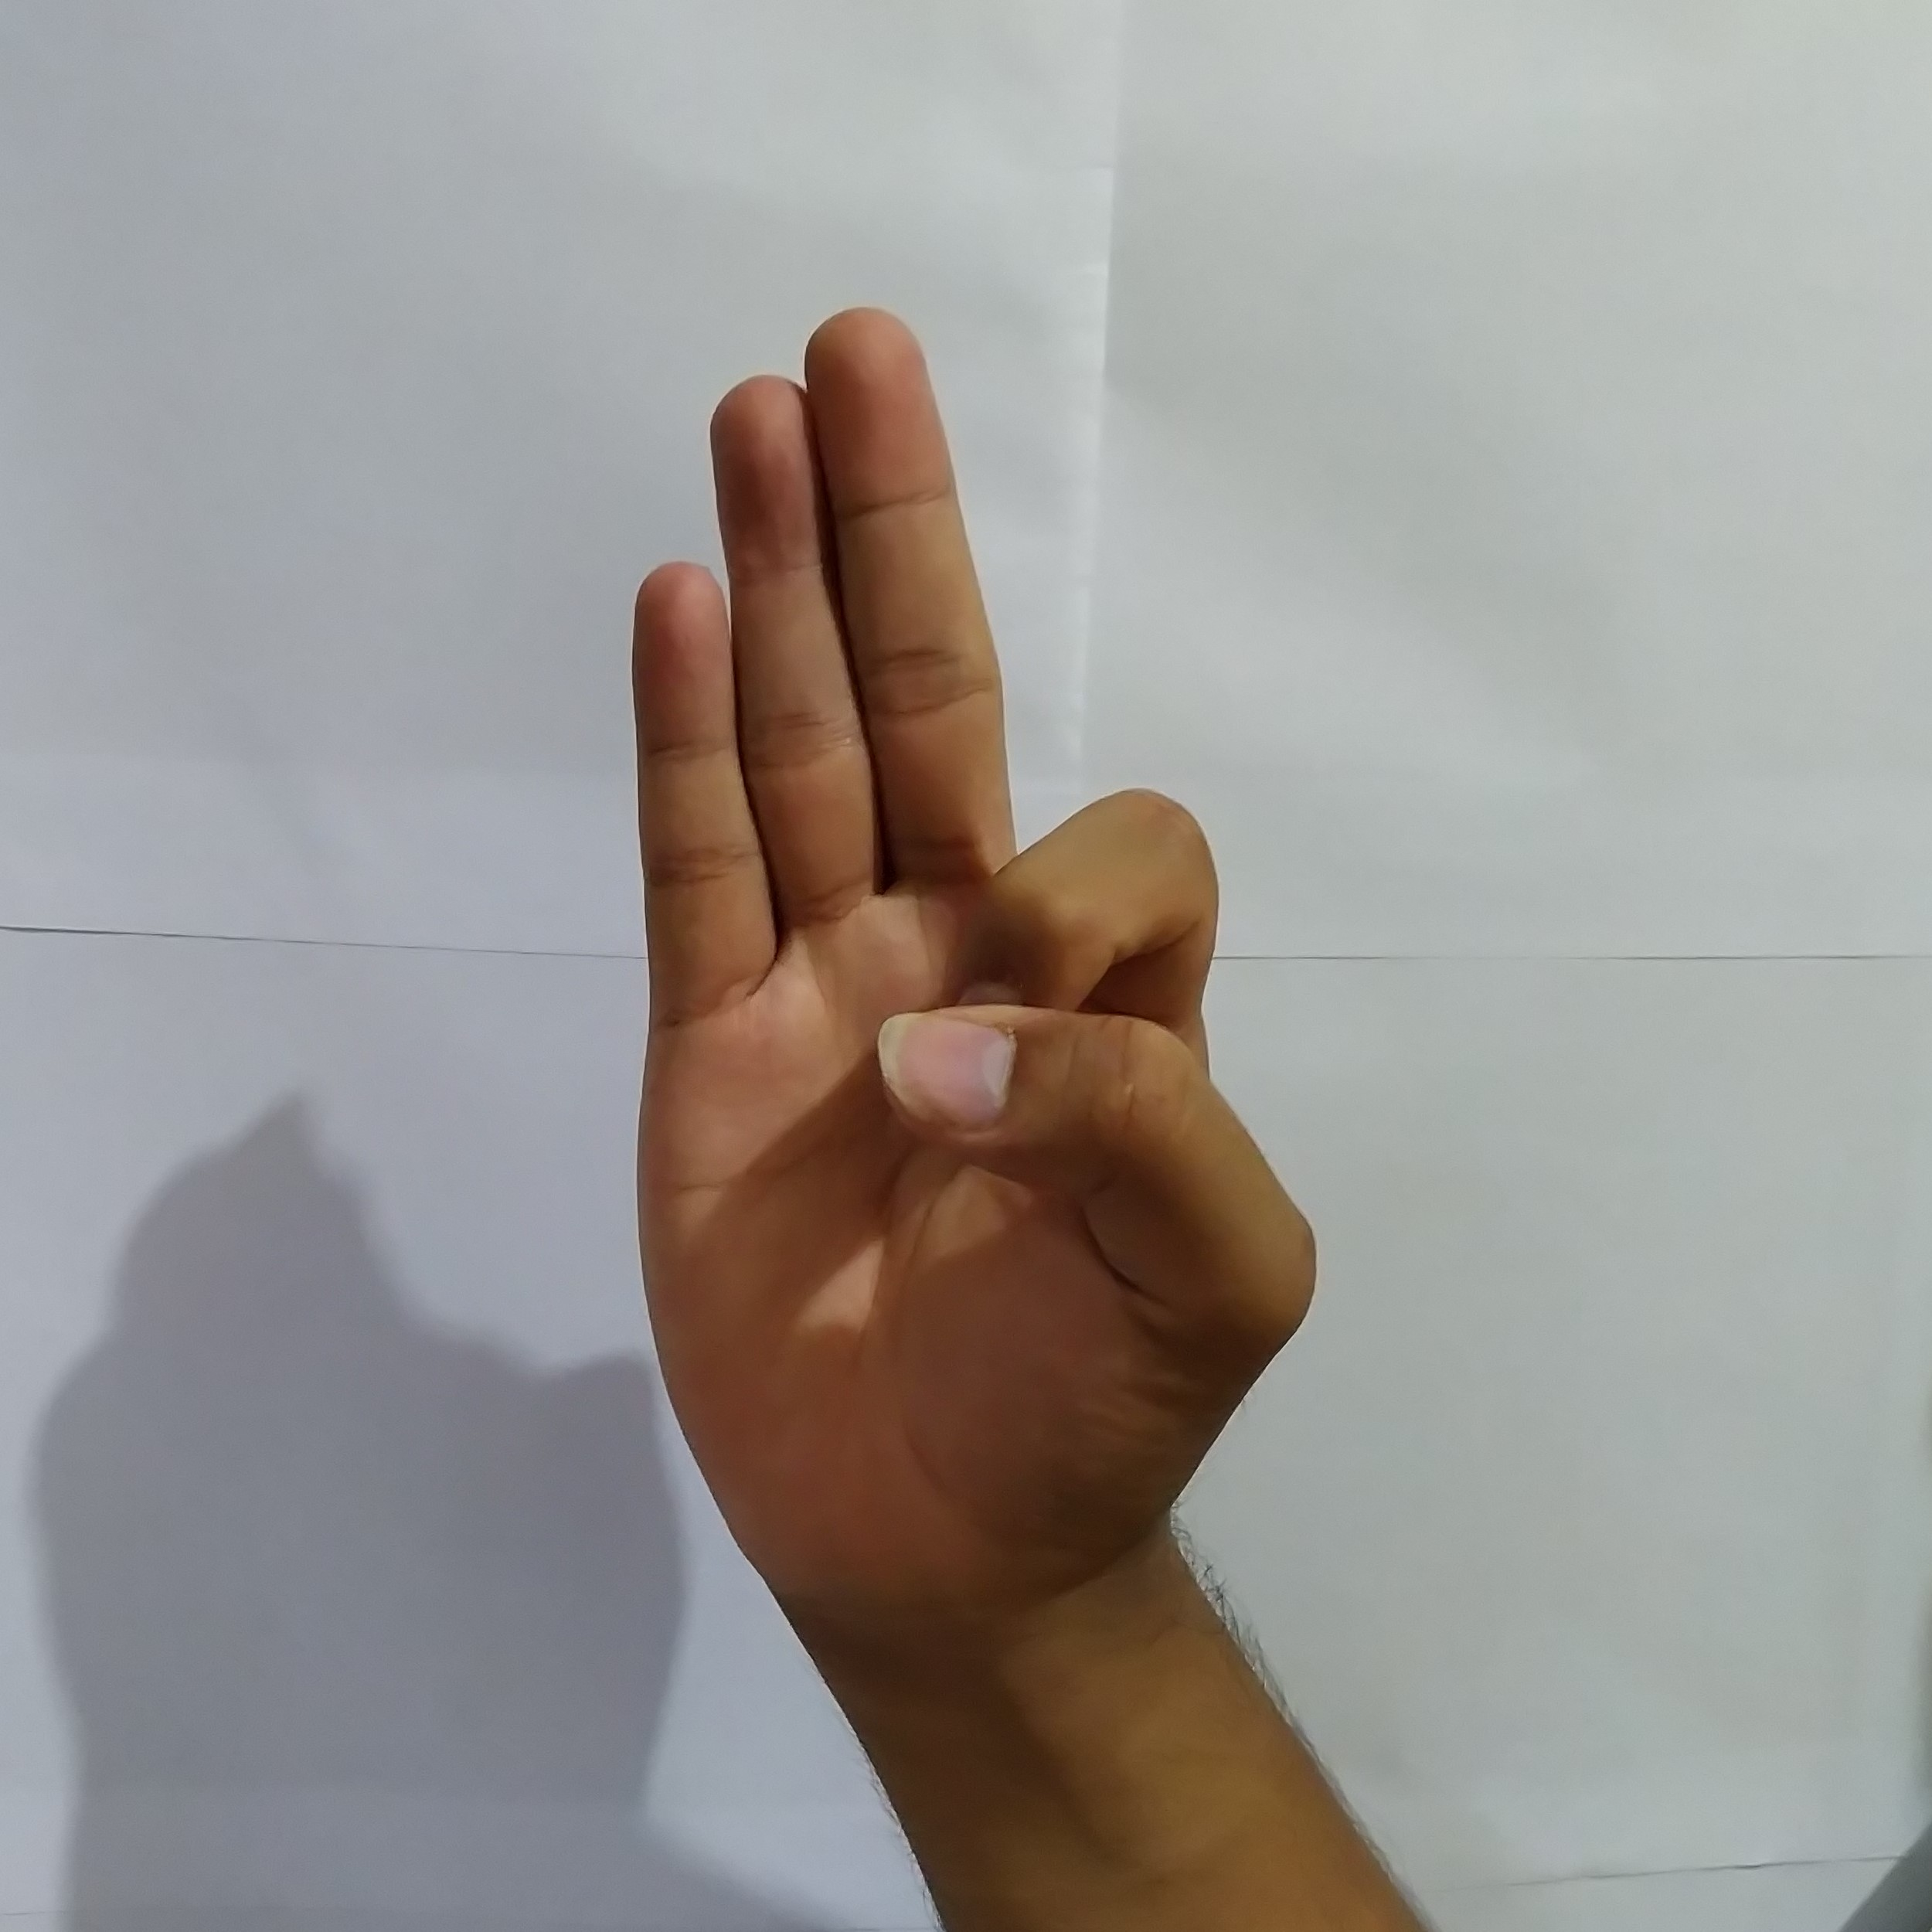F: (603, 285, 1336, 1525)
